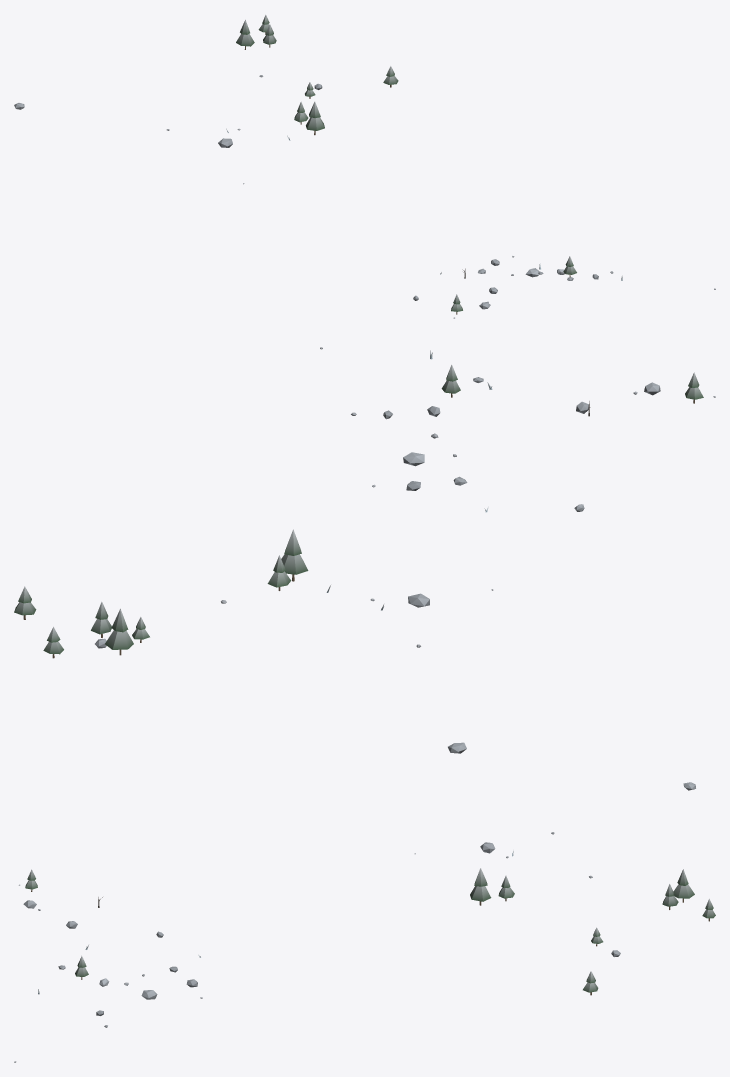
Rendered from frost_land_scatter_c21_11_lod1.glb.
3 renders of one model, top to bottom at view 1: azimuth 30°, elevation 25°; view 2: azimuth 150°, elevation 25°; view 3: azimuth 270°, elevation 25°, orthographic. The views are drawn at different scales.
Visible parts, largest first — view 1: frost_land_scatter_c21_11_lod1; view 2: frost_land_scatter_c21_11_lod1; view 3: frost_land_scatter_c21_11_lod1.
Part boxes in pixels (box(x1,y1,x2,y2)): frost_land_scatter_c21_11_lod1: box(14, 14, 715, 318); frost_land_scatter_c21_11_lod1: box(14, 347, 715, 753); frost_land_scatter_c21_11_lod1: box(14, 782, 715, 1062).
Bounding box in the file's own units: 184 × 41.08 × 252.
